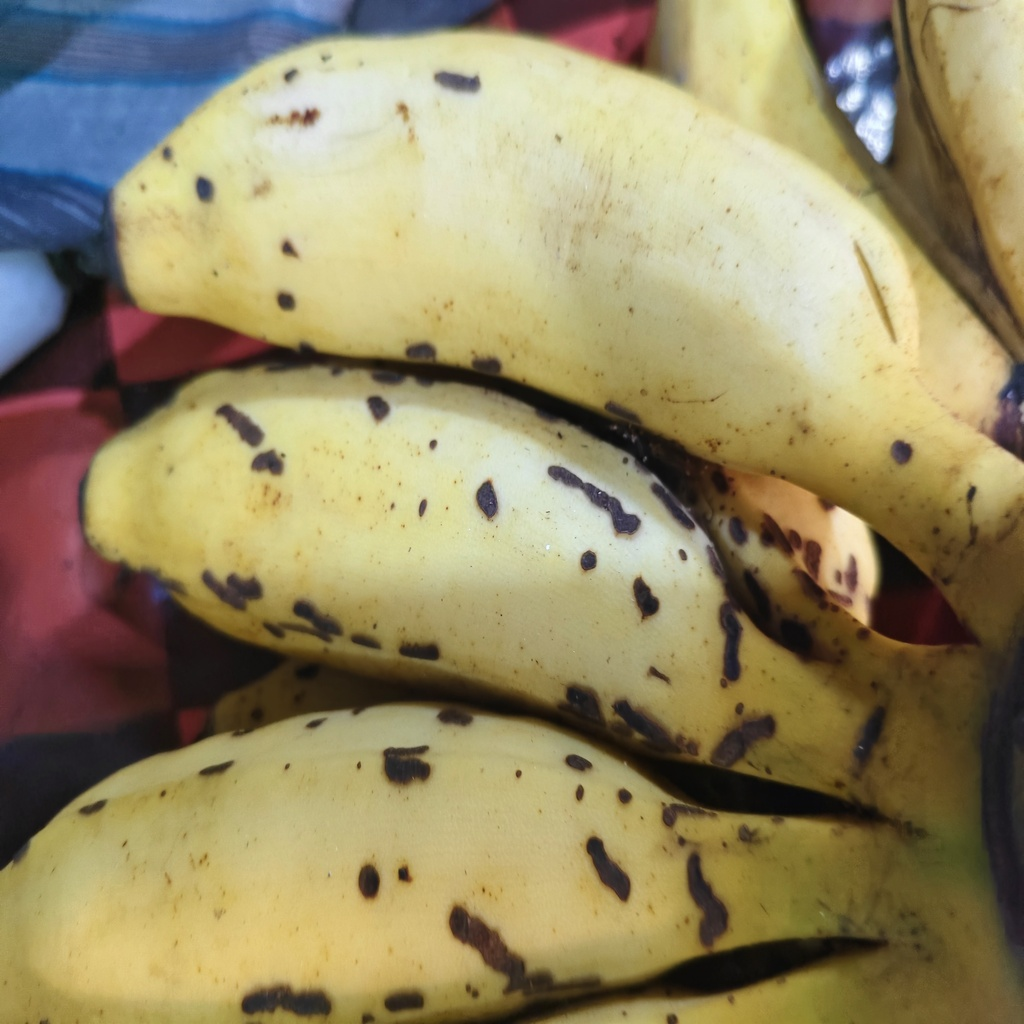unhealthy: (106, 26, 925, 483), (87, 355, 830, 753), (4, 707, 729, 1024)
